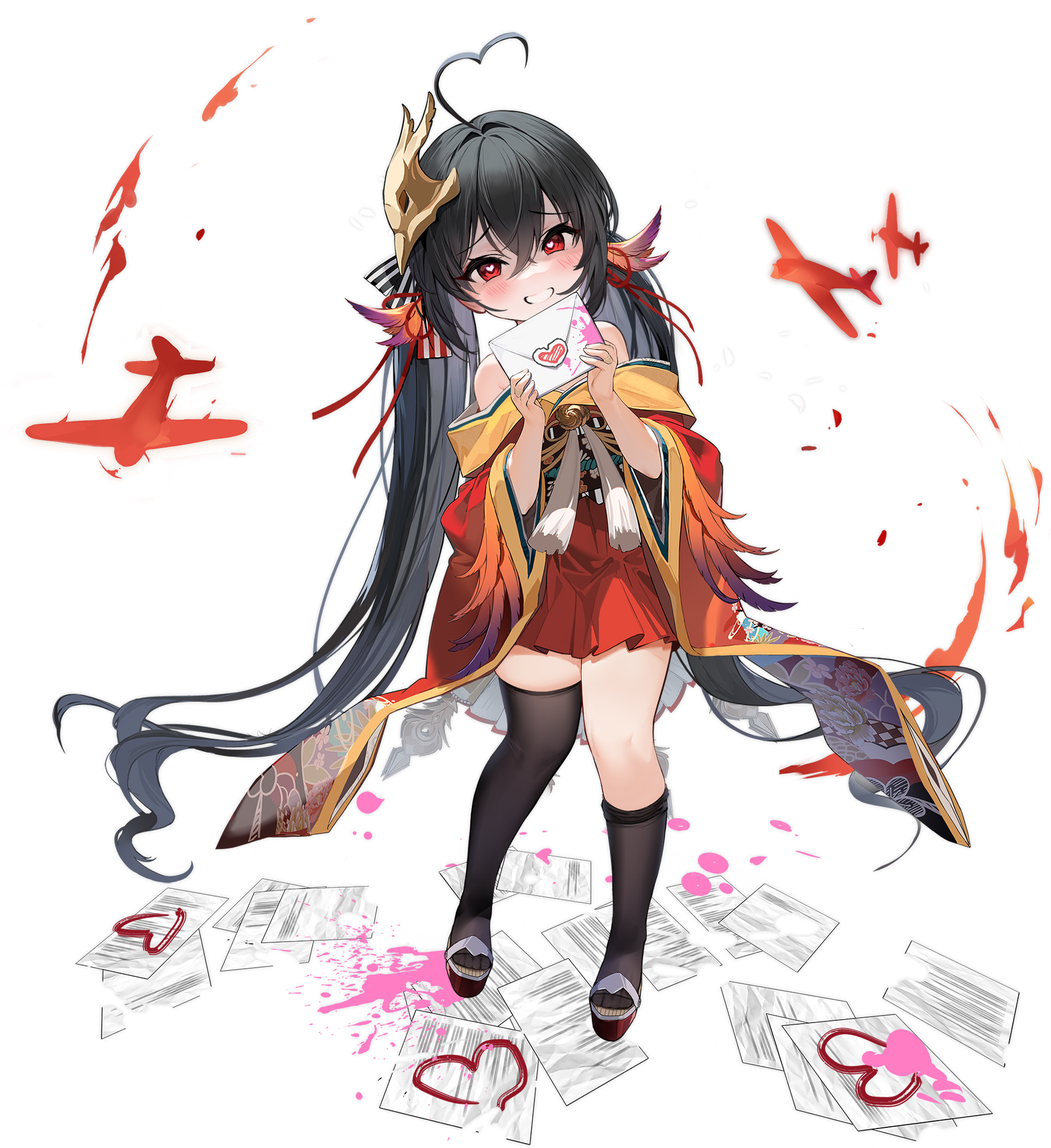person: (235, 3, 1012, 1146)
